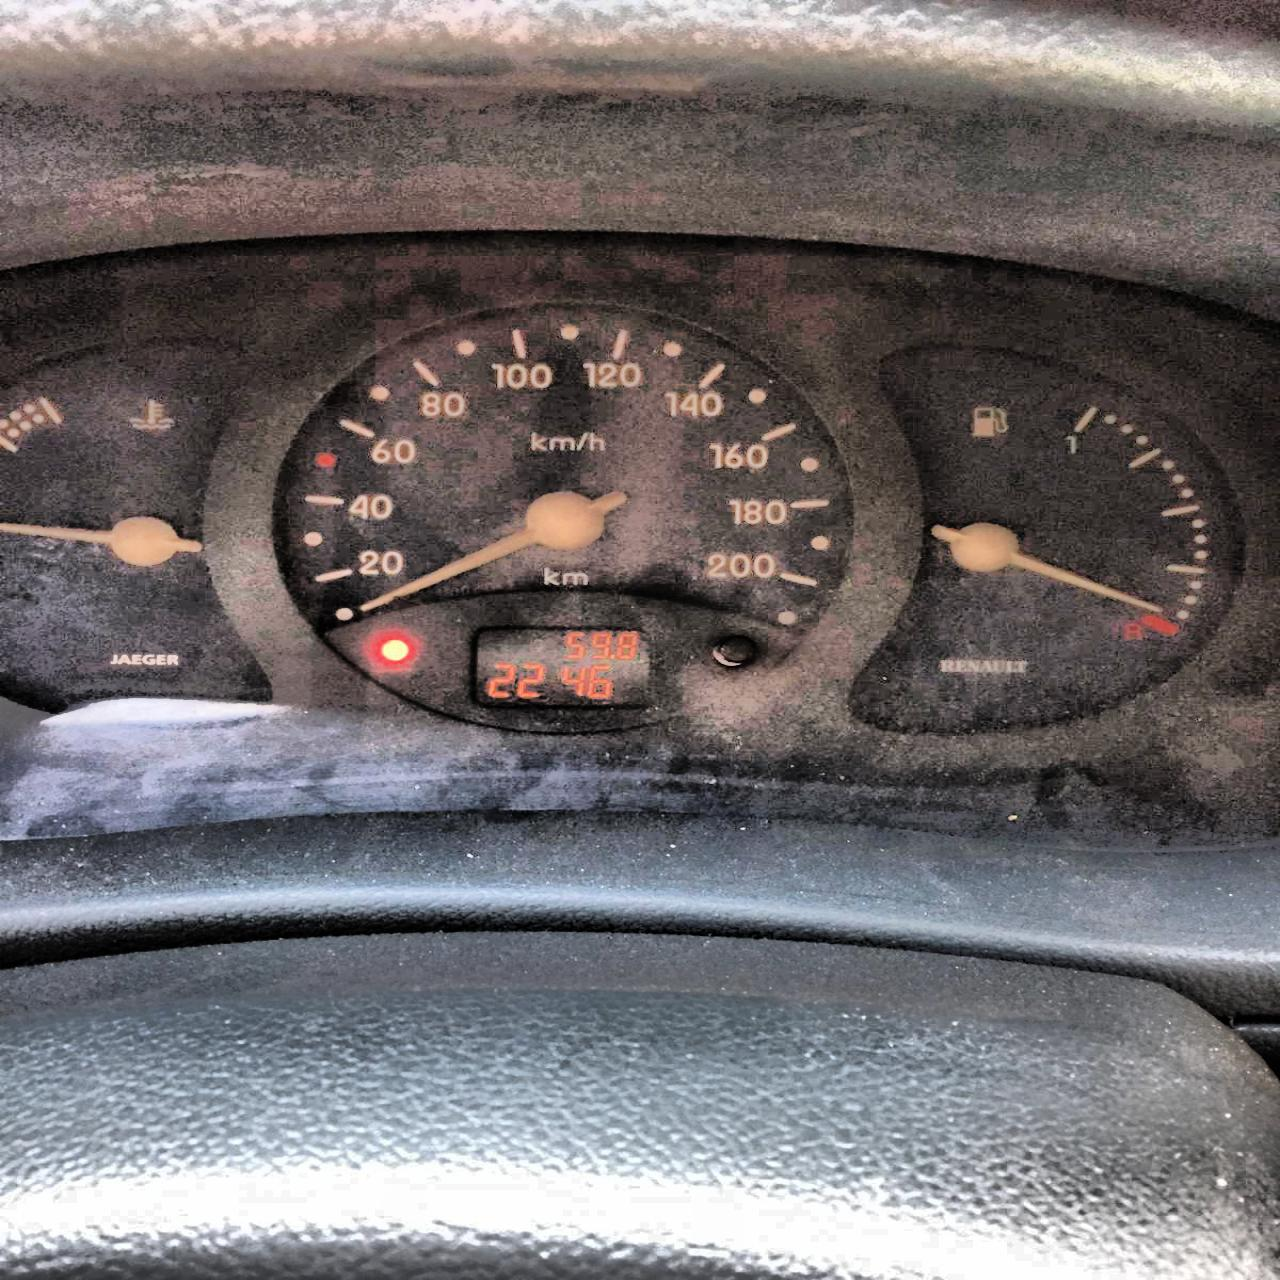-: (608, 654, 614, 659)
2: (516, 663, 543, 696), (488, 663, 515, 696)
4: (561, 665, 586, 695)
5: (565, 632, 584, 658)
6: (586, 665, 611, 697)
8: (615, 633, 635, 659)
9: (591, 632, 610, 659)
odometer: (468, 625, 654, 712)
